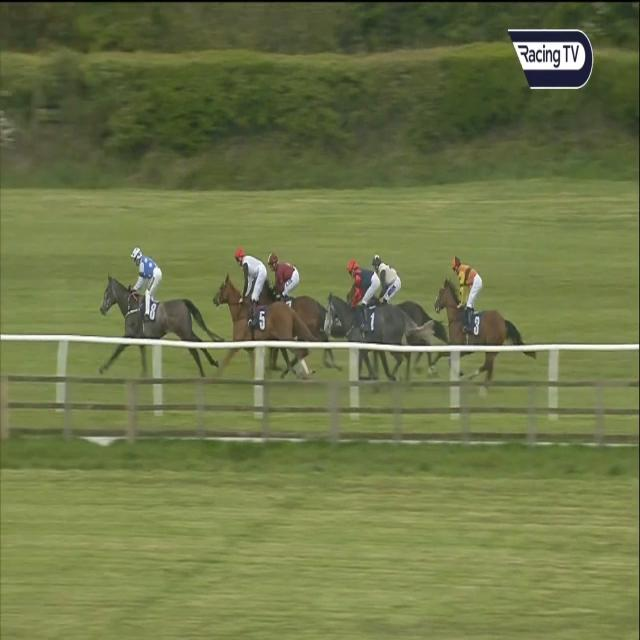horses-racing: (100, 248, 222, 378), (213, 245, 306, 385), (434, 257, 534, 381), (322, 260, 416, 383), (263, 248, 326, 330), (368, 252, 426, 312)
